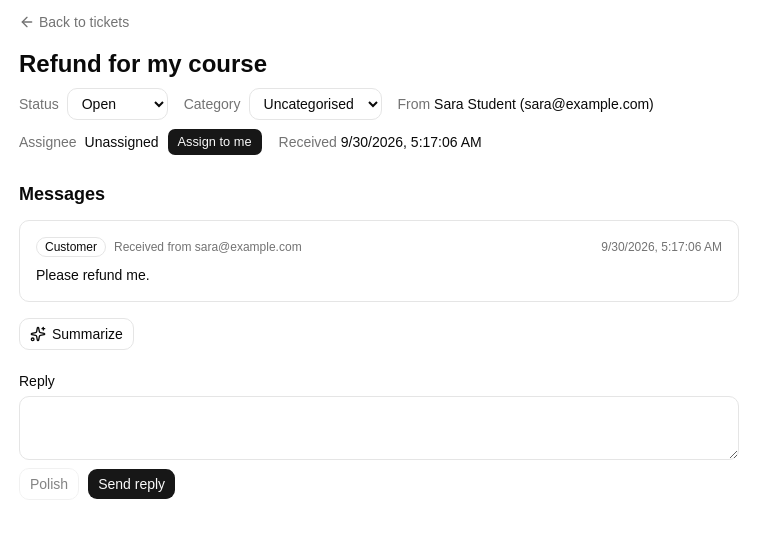
Test: TicketDetailPage › replying › shows the server error and keeps the text
This screenshot has width=759, height=548.
Type "Hello" into the text box labelled "Reply".
click(379, 428); type("Hello")  # box [19,396,739,460]
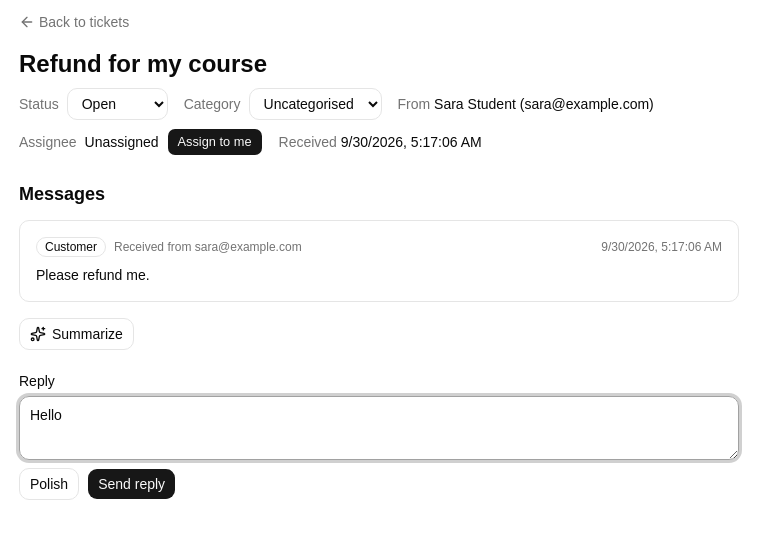
Click the button "Send reply".
click(132, 484)  # box [87,468,176,500]
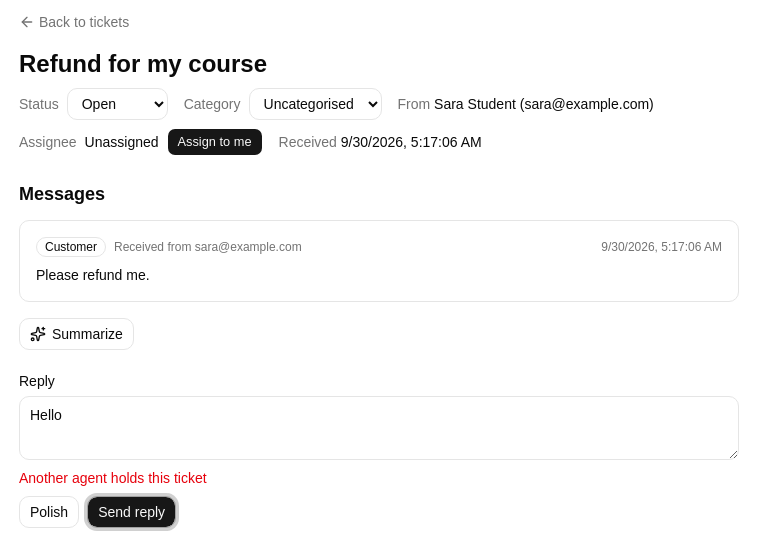
Check: the message reads "Another agent holds this ticket", box [19,470,207,486]
